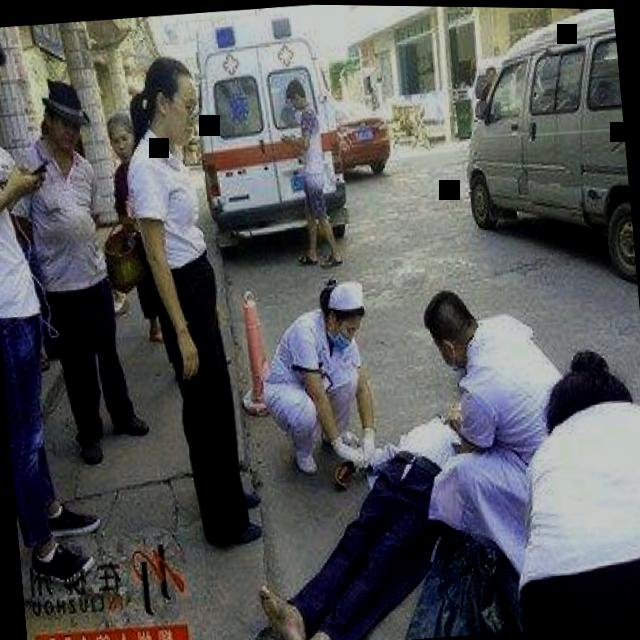Fall-Detected: (228, 386, 490, 640)
